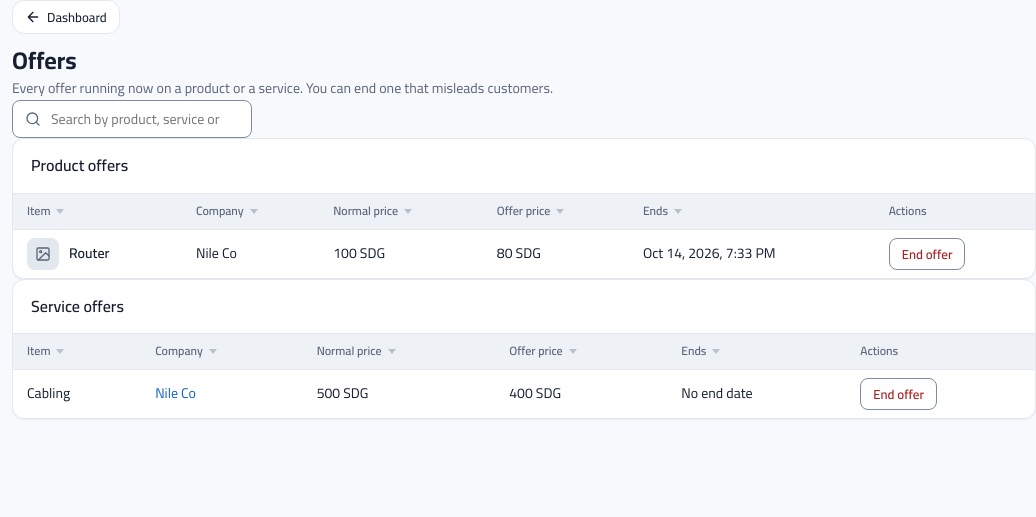
Test: Offers page › searches by item and company
Type "cabling" into the search field with placeholder "Search by product, service or company…" at (144, 120), box [49,102,239,138]
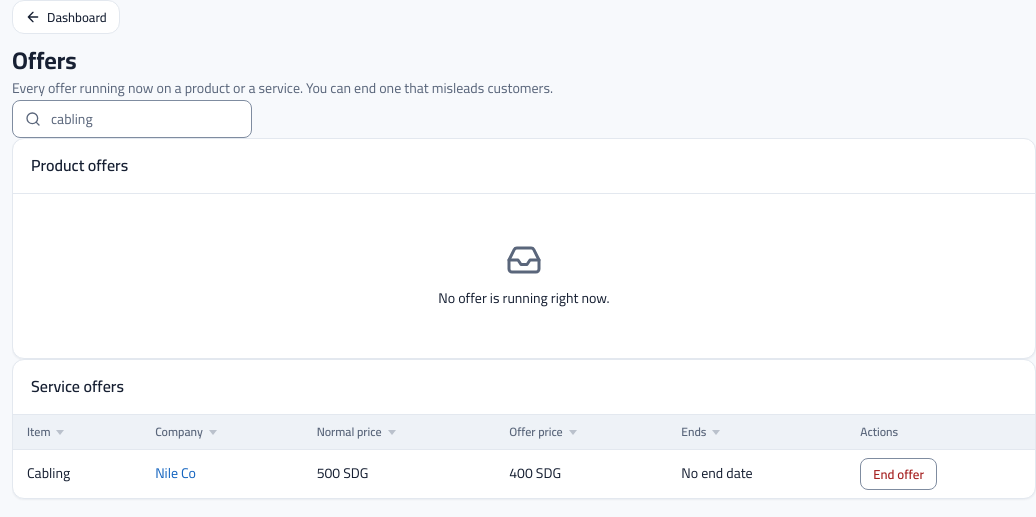
Expected: the text "Cabling" is shown, [27,460,70,486]
Result: the link "Router" is gone
